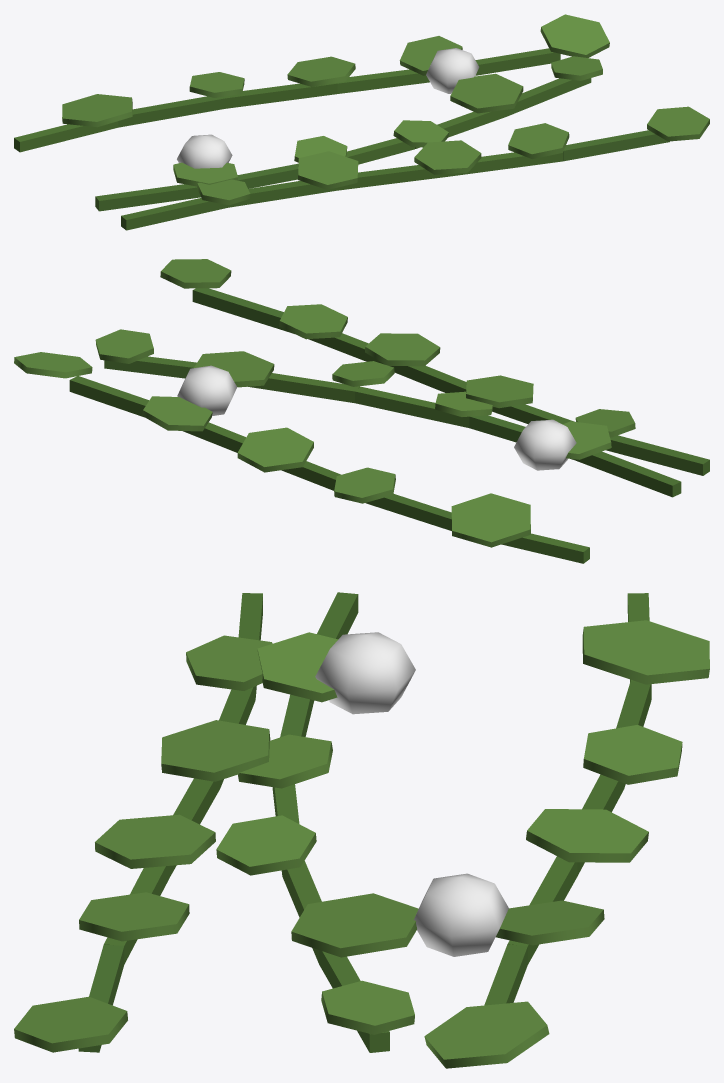
File: farm_gourd_stage3.glb
3 renders of one model, top to bottom at view 1: azimuth 30°, elevation 25°; view 2: azimuth 150°, elevation 25°; view 3: azimuth 270°, elevation 25°, orthographic. The views are drawn at different scales.
Parts seen in each view (by area): view 1: FarmBody, CropAccent; view 2: FarmBody, CropAccent; view 3: FarmBody, CropAccent.
Boxes of the visible parts, left/top/right/bottom form: FarmBody: left=14, top=14, right=709, bottom=230; CropAccent: left=177, top=48, right=479, bottom=168; FarmBody: left=14, top=259, right=709, bottom=563; CropAccent: left=177, top=365, right=576, bottom=470; FarmBody: left=14, top=592, right=709, bottom=1068; CropAccent: left=315, top=632, right=508, bottom=956.
Bounding box in the file's own units: 2.46 × 0.18 × 1.5.
